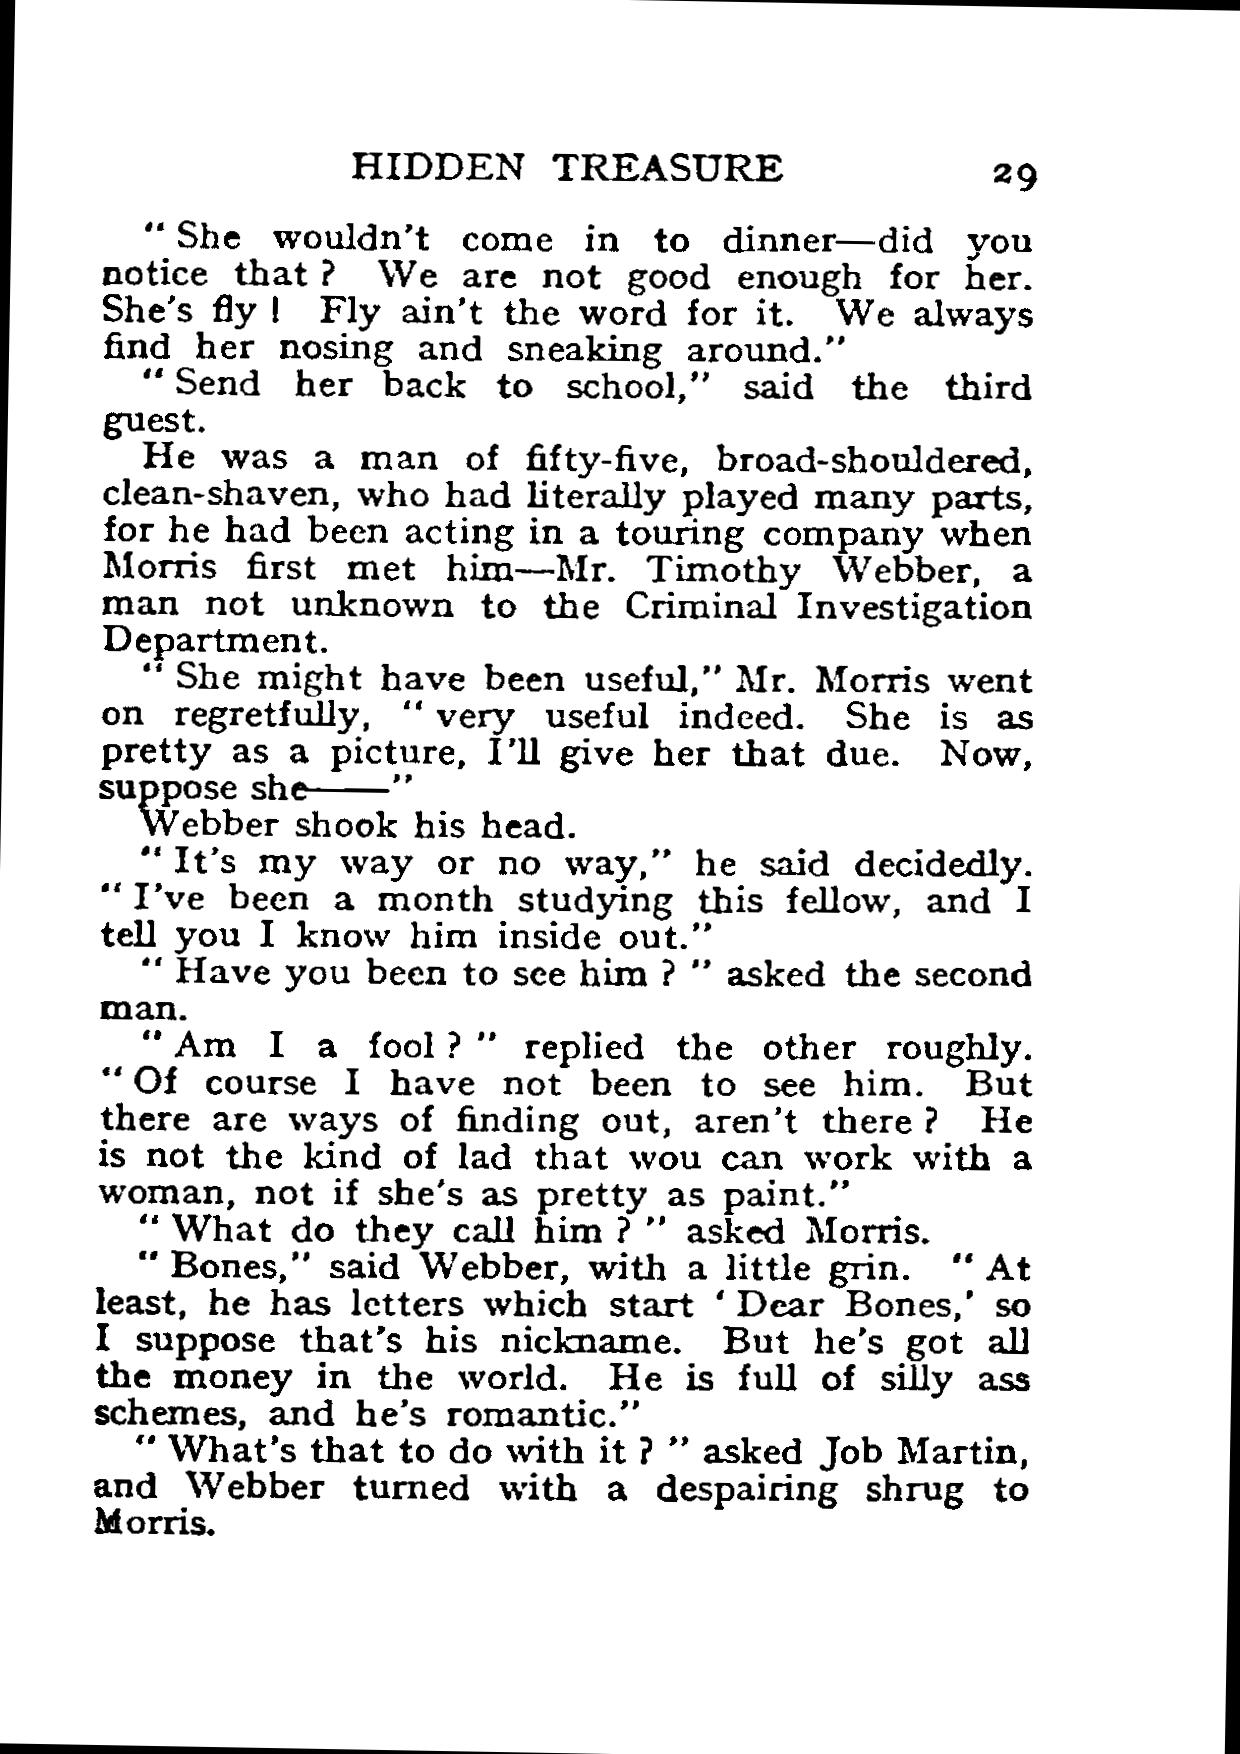content: (89, 213, 1039, 1541)
content_chapter: (340, 146, 788, 185)
content_pagenumber: (982, 152, 1041, 195)
